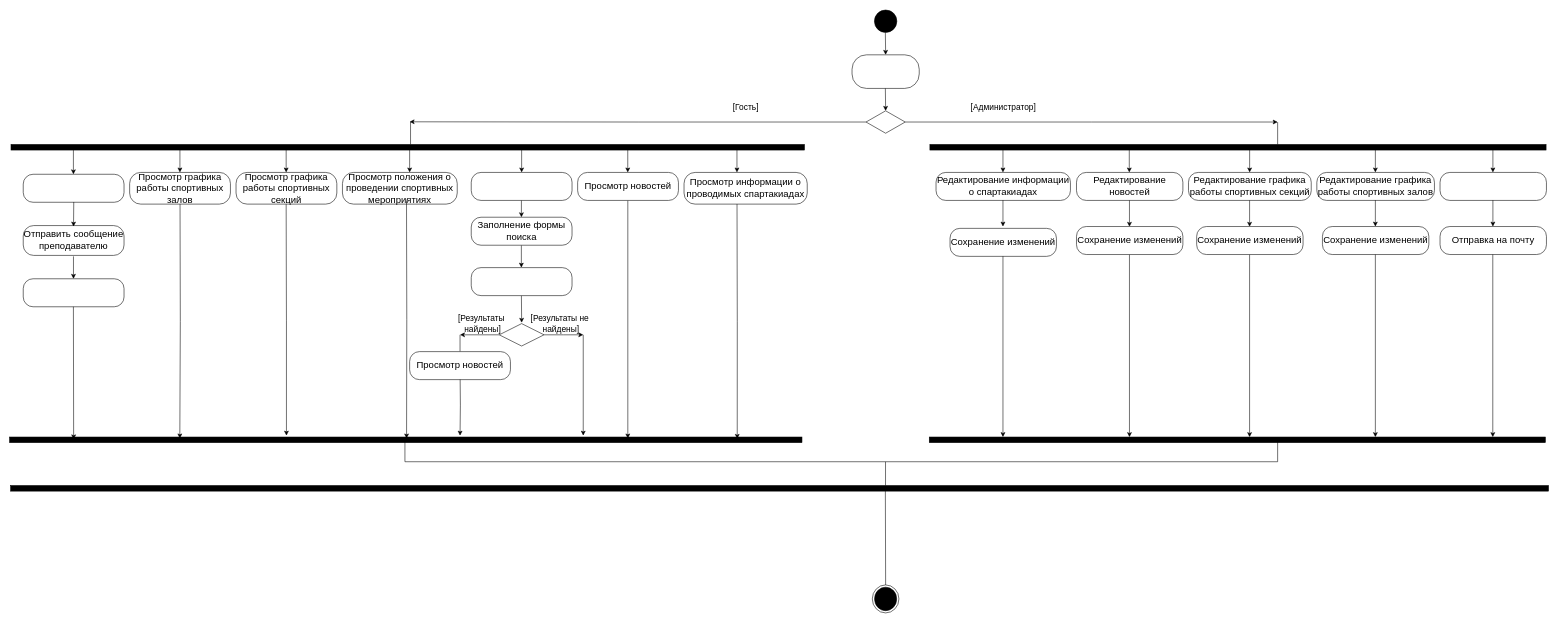
This 1559x623 diagram has some shape labels left out. Here are the shapes that lost their labels. From the top down, the box of each, then its label:
(851, 54, 919, 88): Вход на сайт
(23, 174, 124, 202): Заполнение формы сообщения
(471, 172, 572, 200): Поиск информации
(1439, 172, 1546, 200): Ответы на сообщения
(23, 278, 124, 307): Получение ответа на почту
(471, 267, 572, 296): Начало поиска
